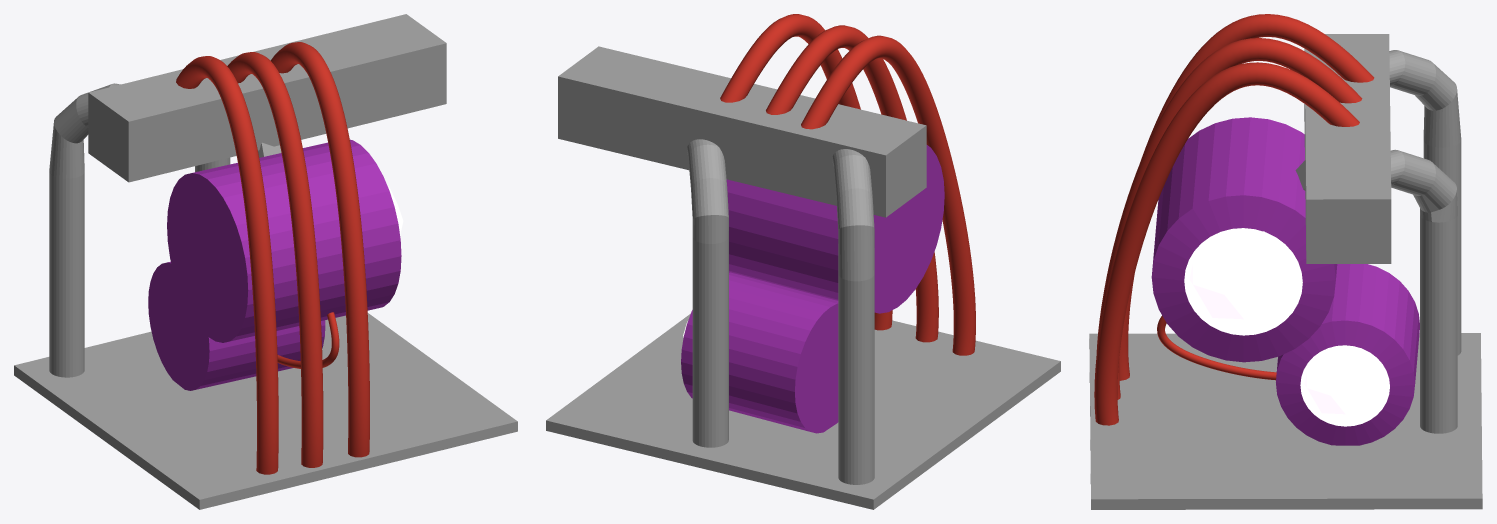
Rendered from PowerGenlevel4.fbx.
3 views of the same model, side by side, from view 1: azimuth 30°, elevation 25°; view 2: azimuth 150°, elevation 25°; view 3: azimuth 270°, elevation 25° (orthographic). The views are drawn at different scales.
Visible parts, largest first — view 1: Cube, Cube.001, Cylinder.001, NurbsPath.002, NurbsPath, NurbsPath.001, Cylinder, NurbsPath.003; view 2: Cube, Cube.001, Cylinder.001, Cylinder, NurbsPath.002, NurbsPath.001, NurbsPath; view 3: Cube, Cylinder.001, Cylinder, Cube.001, NurbsPath, NurbsPath.001, NurbsPath.002, NurbsPath.003.
Boxes of the visible parts, <box> form: Cube: <box>14,83,517,509</box>; Cube.001: <box>88,14,446,182</box>; Cylinder.001: <box>167,139,403,342</box>; NurbsPath.002: <box>176,56,278,474</box>; NurbsPath: <box>270,42,369,457</box>; NurbsPath.001: <box>227,52,323,467</box>; Cylinder: <box>148,261,325,390</box>; NurbsPath.003: <box>277,312,339,368</box>; Cube: <box>546,139,1060,509</box>; Cube.001: <box>558,46,926,217</box>; Cylinder.001: <box>726,145,944,313</box>; Cylinder: <box>681,272,838,433</box>; NurbsPath.002: <box>801,35,975,355</box>; NurbsPath.001: <box>766,25,938,342</box>; NurbsPath: <box>720,14,892,330</box>; Cube: <box>1089,50,1482,509</box>; Cylinder.001: <box>1151,117,1337,362</box>; Cylinder: <box>1276,264,1419,445</box>; Cube.001: <box>1304,34,1391,263</box>; NurbsPath: <box>1094,62,1359,425</box>; NurbsPath.001: <box>1096,38,1362,399</box>; NurbsPath.002: <box>1119,14,1374,380</box>; NurbsPath.003: <box>1157,315,1276,380</box>.
Bounding box in the file's own units: 2.16 × 2.12 × 1.97.
